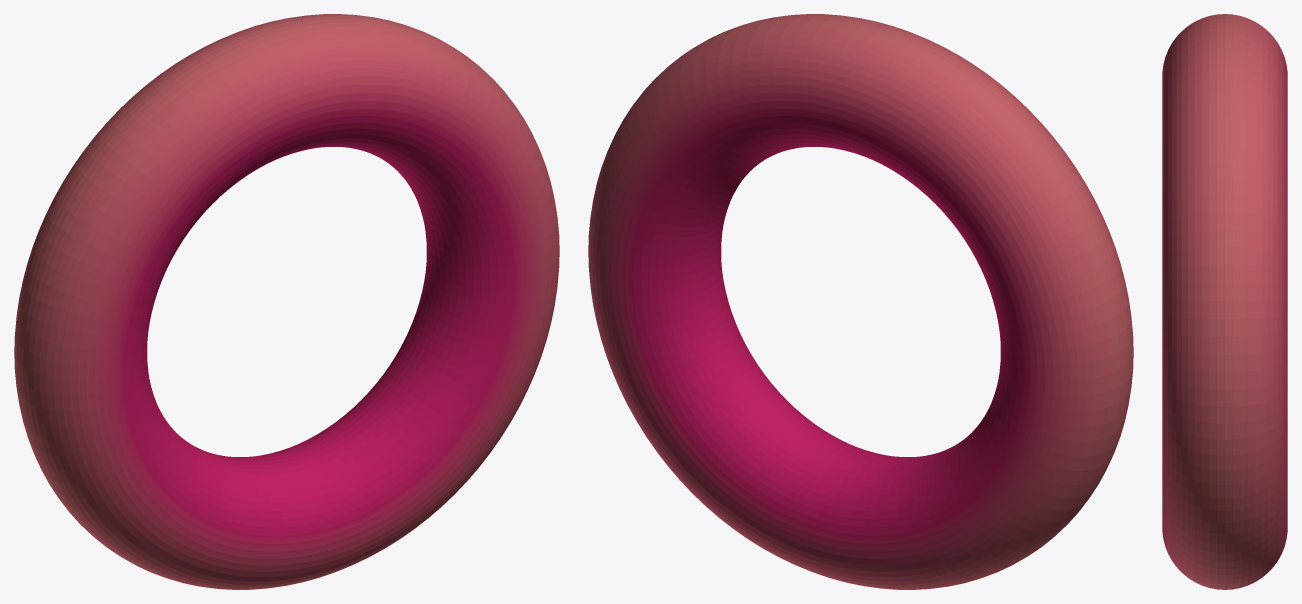
The picture shows the model from 3 angles, left to right: view 1: azimuth 30°, elevation 25°; view 2: azimuth 150°, elevation 25°; view 3: azimuth 270°, elevation 25°; orthographic projection. The views are drawn at different scales.
Parts seen in each view (by area): view 1: world; view 2: world; view 3: world.
Part boxes in pixels (x1,y1,x2,y2): world: (14,14,559,589); world: (588,14,1133,589); world: (1162,14,1287,589).
Size of the model in its own units: 32.4 by 32.4 by 7.05.
